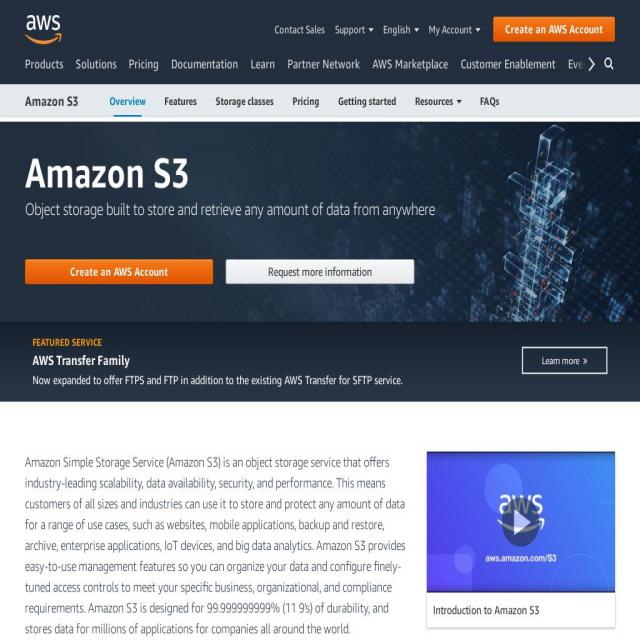navigation-links: (18, 53, 598, 115), (264, 15, 484, 50)
search: (601, 50, 620, 80)
sign-up-option: (20, 255, 219, 290), (492, 10, 616, 45)
video: (424, 436, 621, 626)
